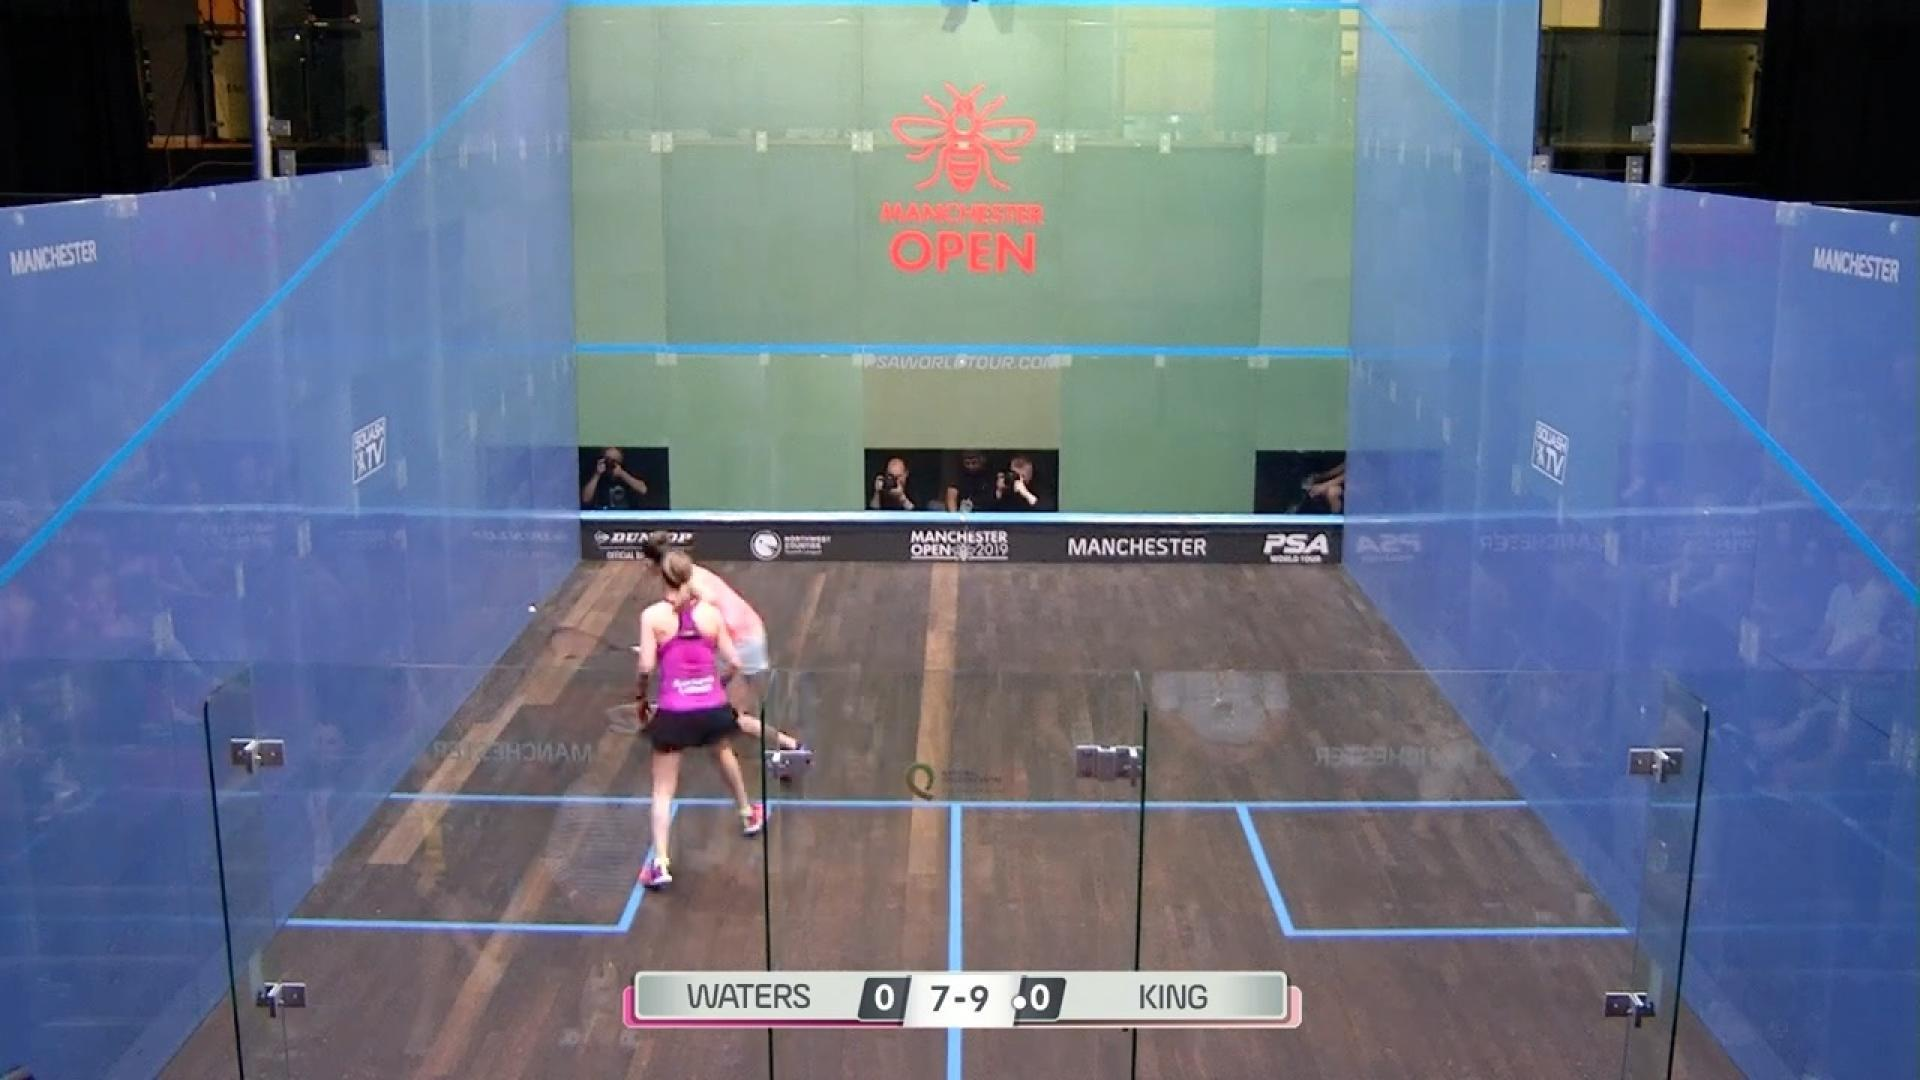Squash-Ball: (516, 589, 564, 642)
